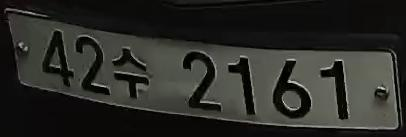1: (317, 55, 362, 121), (225, 52, 264, 118)
2: (180, 49, 226, 112), (74, 33, 112, 96)
4: (35, 26, 75, 89)
6: (267, 55, 318, 120)
수: (113, 46, 153, 101)
